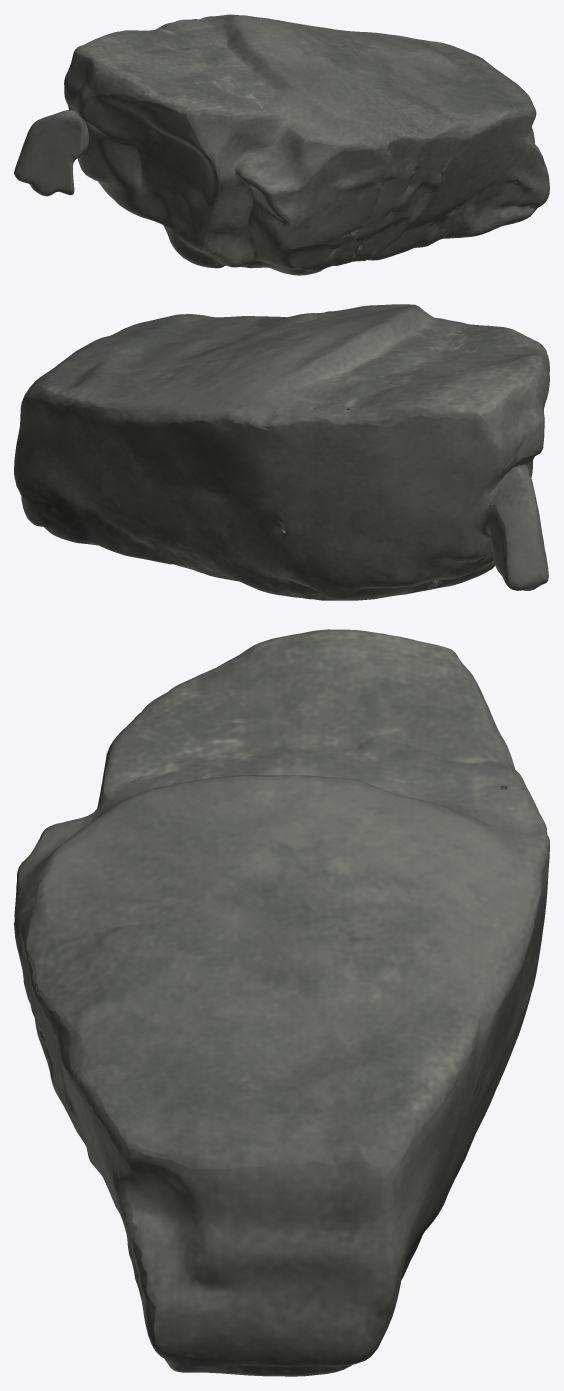
The picture shows the model from 3 angles, top to bottom: view 1: azimuth 30°, elevation 25°; view 2: azimuth 150°, elevation 25°; view 3: azimuth 270°, elevation 25°; orthographic projection. The views are drawn at different scales.
Visible parts, largest first — view 1: world; view 2: world; view 3: world.
Part boxes in pixels (left/top/right/bottom): world: left=14, top=14, right=549, bottom=275; world: left=14, top=304, right=549, bottom=600; world: left=14, top=629, right=549, bottom=1376.
Size of the model in its own units: 3.5 by 1.64 by 1.95.
Materials: 1 (1 with a texture image).
